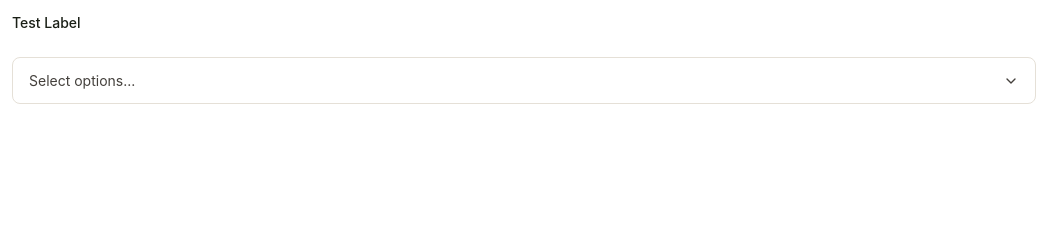
Scenario: MultiSelectInput Accessibility › closes on Escape key and returns focus to trigger
Later steps or results of the test are not shown.
Open it first (click works currently)
Step 1. Click the dropdown "Select options..." → x=524, y=80, box [12,57,1036,104]
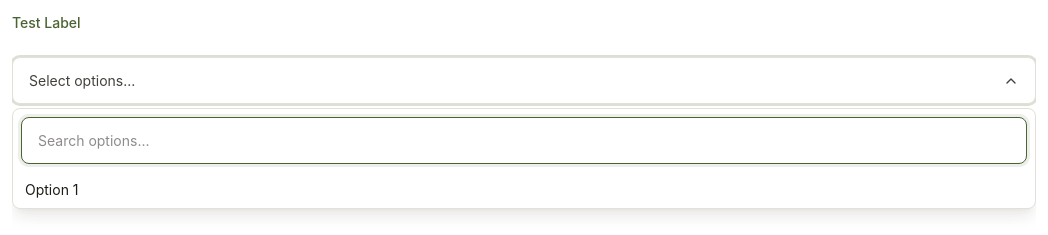
expect the field with placeholder "Search options..." is shown: met, box [21,117,1027,164]
